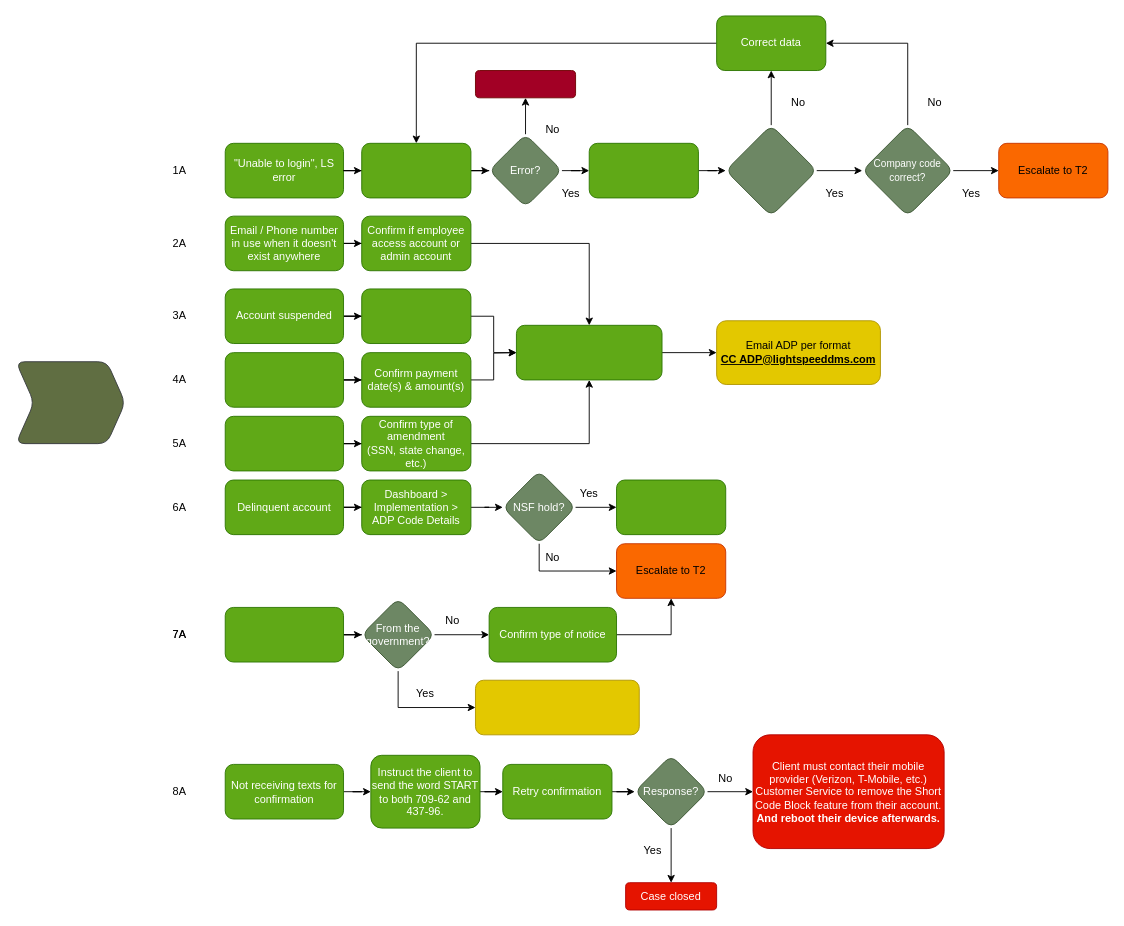
Some shapes in this 1124 by 926 pixel diagram are drawn without their labels. The centre of each missing label's shape, as x and y in pixels:
855-789-6170 option 3 ask for payment svcs: the point at 671,507
Amendments to W-2: the point at 284,443
Client calls into support for PRP: the point at 70,402
Client forwards a copy to taxnoticesetup@adp.com: the point at 557,707
Close case: the point at 525,84
Confirm suspended account: the point at 416,316
Gather PRP co. name, CID, CMF, and Case #: the point at 589,352
Information about payments made to ADP: the point at 284,379
Retry action: the point at 416,170
System > Preferences > Location > Payroll: the point at 643,170
Tax notice received: the point at 284,634
Username / password correct?: the point at 771,170
